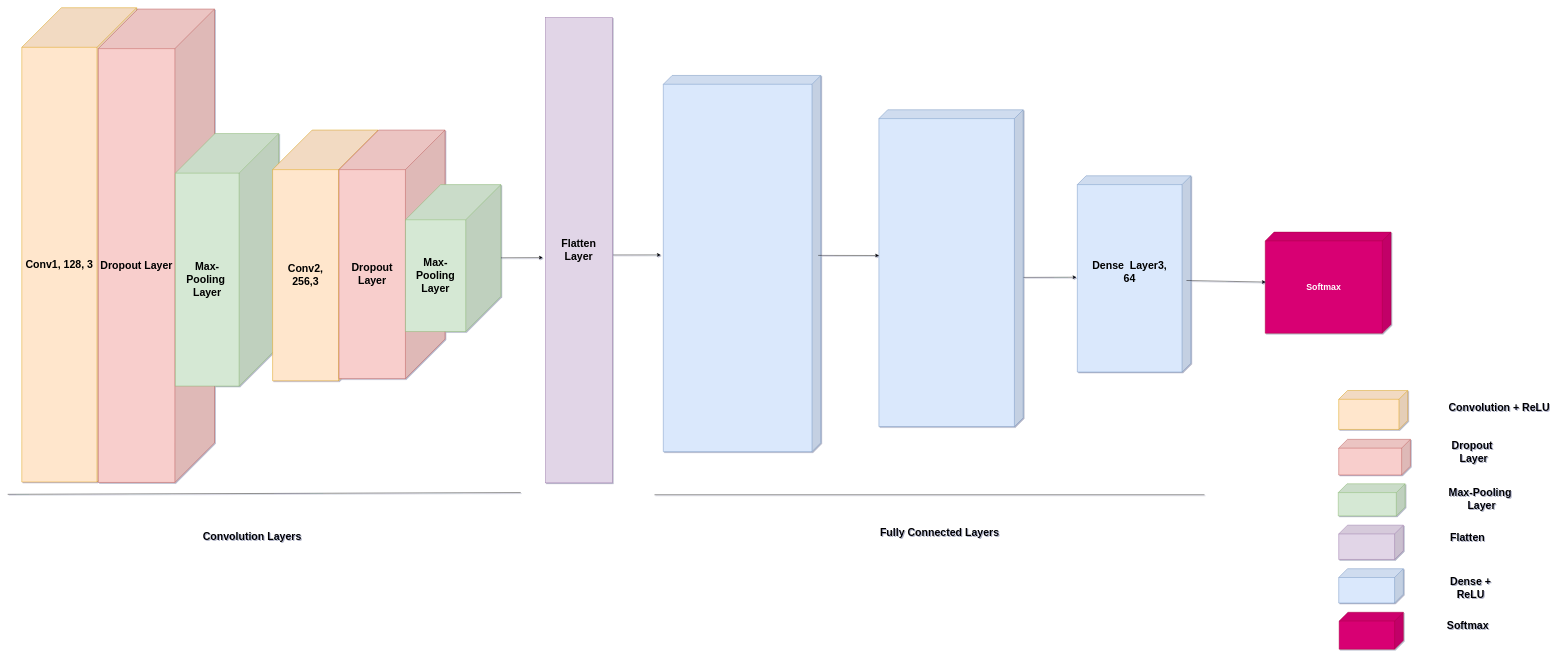
The diagram is 1565 pixels wide and 660 high, and some of its shapes have lost their labels. The centre of each missing label's shape, as x and y in pixels:
"Dense Layer1, 256" goes at (x=742, y=263).
"Dense Layer2, 128" goes at (x=950, y=268).
